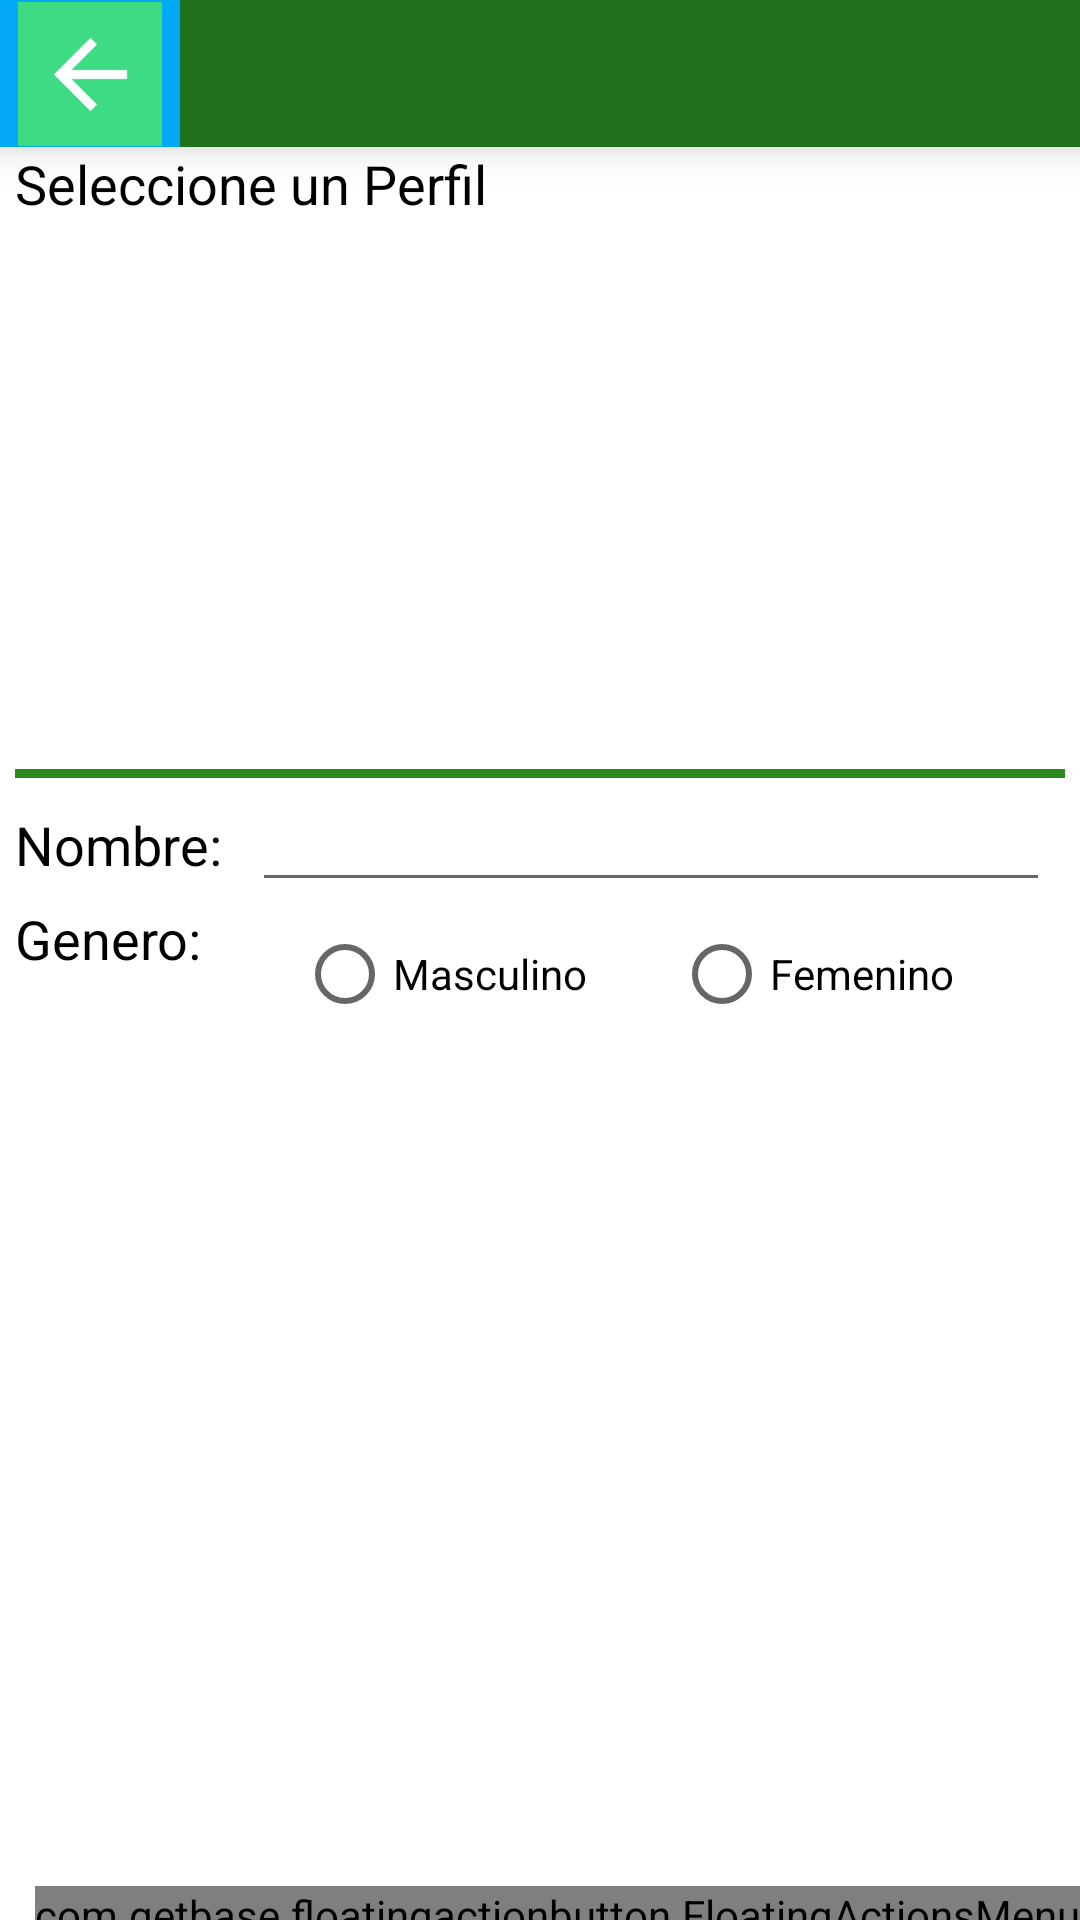

Point at icon controls on the screen. Image size 1080 × 1920, points as (x,y).
atras: (90,73)
